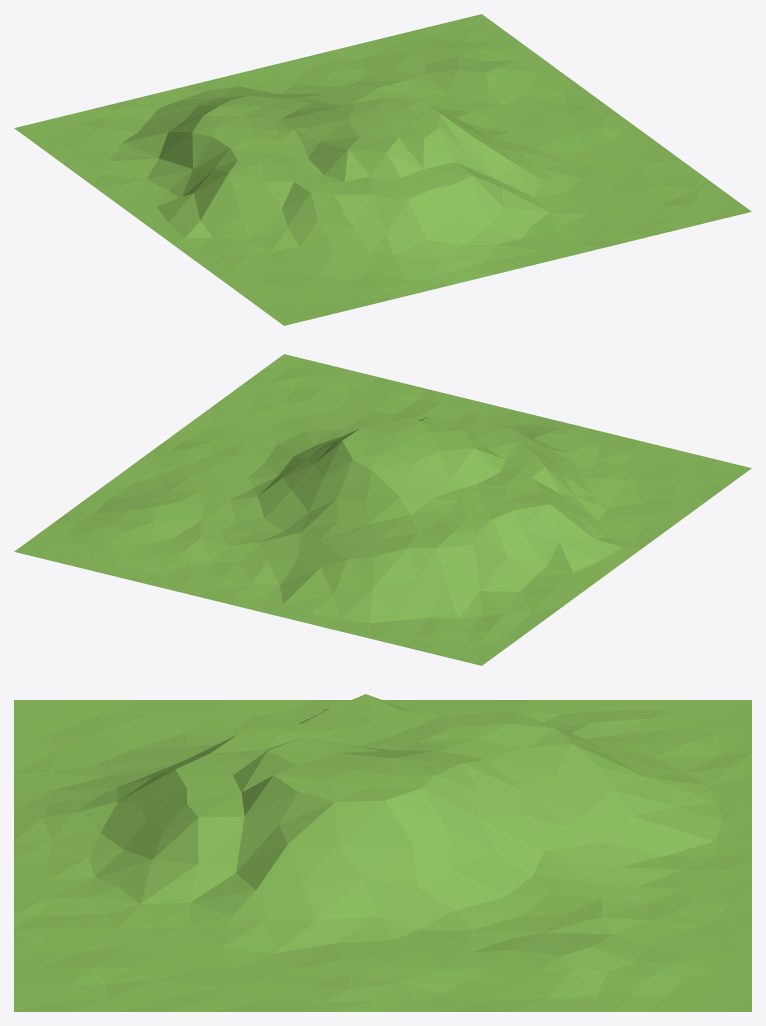
The model's file is MT_Terrain_M_d_17.fbx.
3 views of the same model, one above another, from view 1: azimuth 30°, elevation 25°; view 2: azimuth 150°, elevation 25°; view 3: azimuth 270°, elevation 25° (orthographic). The views are drawn at different scales.
Visible parts, largest first — view 1: MT_Terrain_M_d_17; view 2: MT_Terrain_M_d_17; view 3: MT_Terrain_M_d_17.
Boxes of the visible parts, x1,y1,x2,y2 form: MT_Terrain_M_d_17: (14,14,751,325); MT_Terrain_M_d_17: (14,354,751,665); MT_Terrain_M_d_17: (14,694,751,1011).
Bounding box in the file's own units: 5000 × 624 × 5000.
